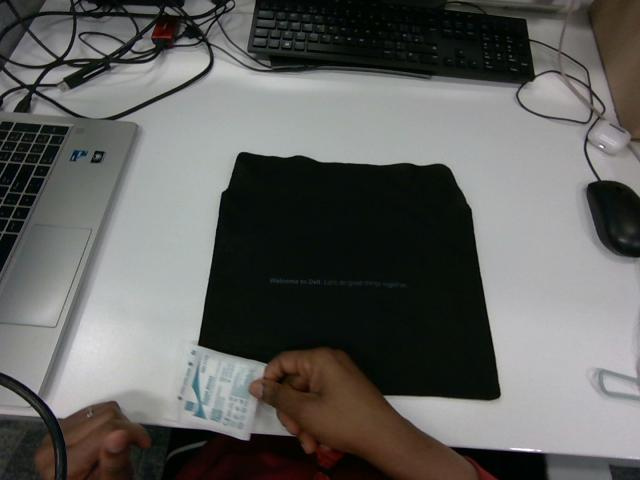gauze: (174, 346, 265, 439)
